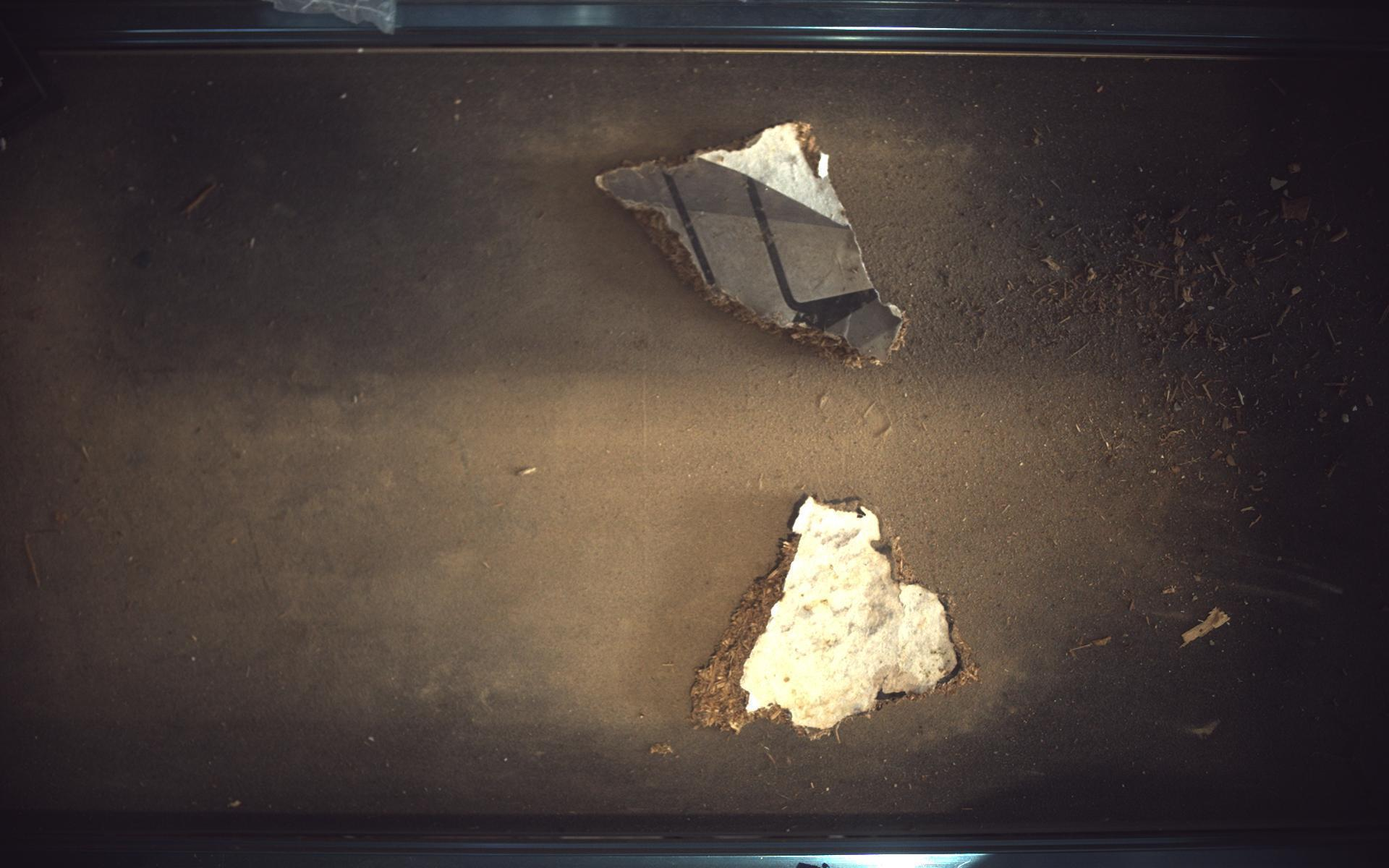wood: (598, 121, 908, 367), (692, 497, 978, 733)
